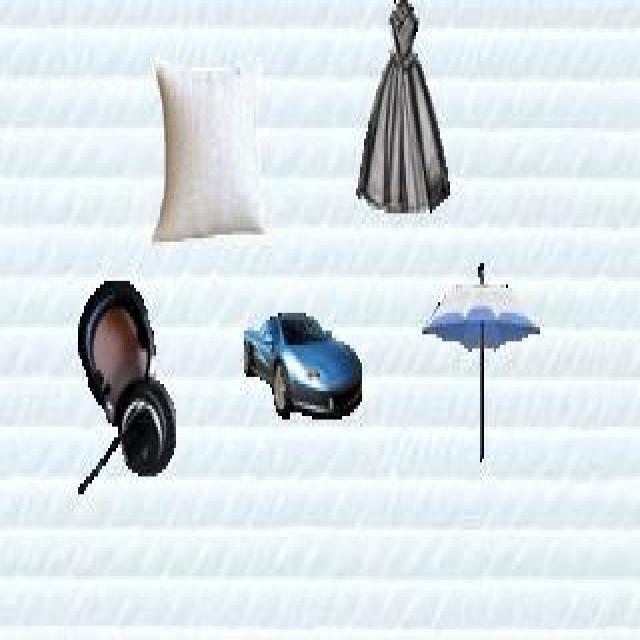Other Objects: (77, 278, 176, 500), (152, 56, 267, 242), (355, 0, 450, 215)
